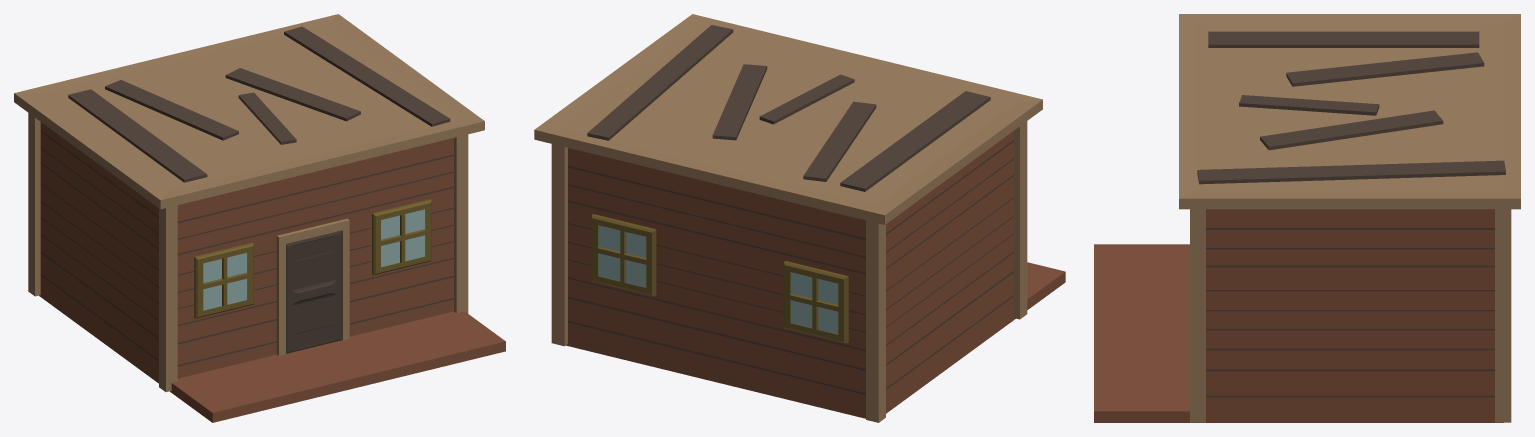
The model's file is Building_03.fbx.
The picture shows the model from 3 angles, left to right: view 1: azimuth 30°, elevation 25°; view 2: azimuth 150°, elevation 25°; view 3: azimuth 270°, elevation 25°; orthographic projection. The views are drawn at different scales.
Parts seen in each view (by area): view 1: Building_03; view 2: Building_03; view 3: Building_03.
Boxes of the visible parts, box(x1,y1,x2,y2) form: Building_03: box(14, 14, 505, 422); Building_03: box(534, 14, 1065, 422); Building_03: box(1094, 14, 1520, 422).
Bounding box in the file's own units: 397 × 237 × 388.
